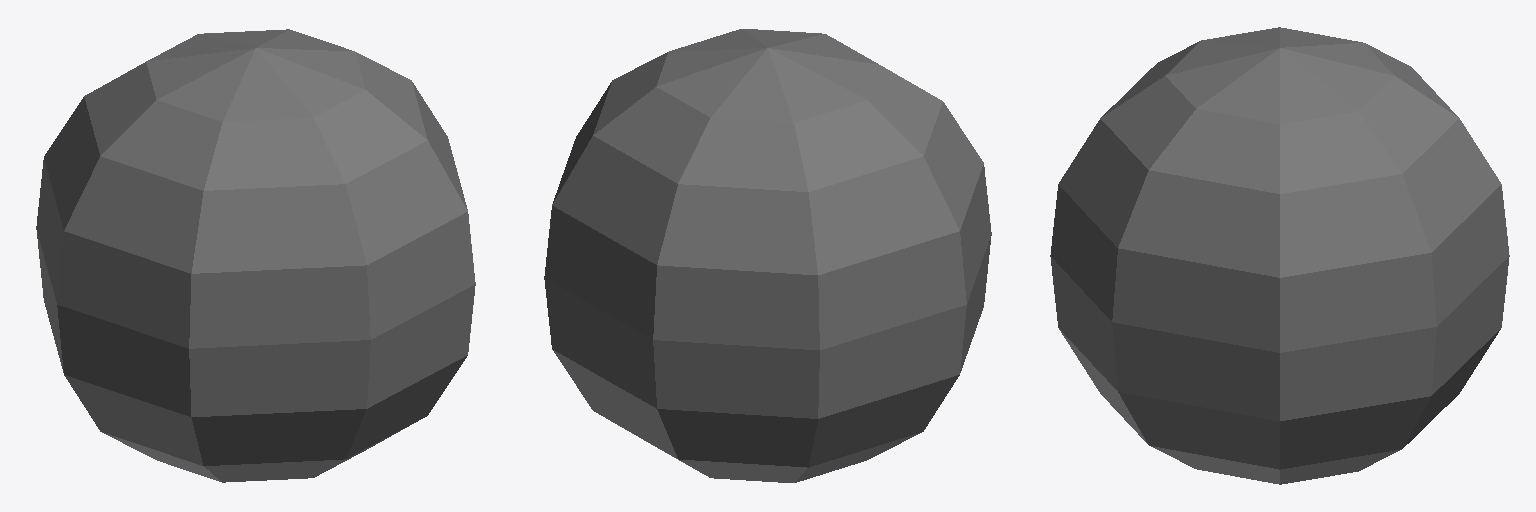
The model's file is ghostWestern_environment_tumbleweed.obj.
3 views of the same model, side by side, from view 1: azimuth 30°, elevation 25°; view 2: azimuth 150°, elevation 25°; view 3: azimuth 270°, elevation 25° (orthographic).
Parts seen in each view (by area): view 1: pSphere1; view 2: pSphere1; view 3: pSphere1.
Part boxes in pixels (x1,y1,x2,y2): pSphere1: (36, 29, 475, 482); pSphere1: (544, 29, 991, 482); pSphere1: (1050, 27, 1509, 484).
Size of the model in its own units: 7.07 by 7.07 by 7.07.